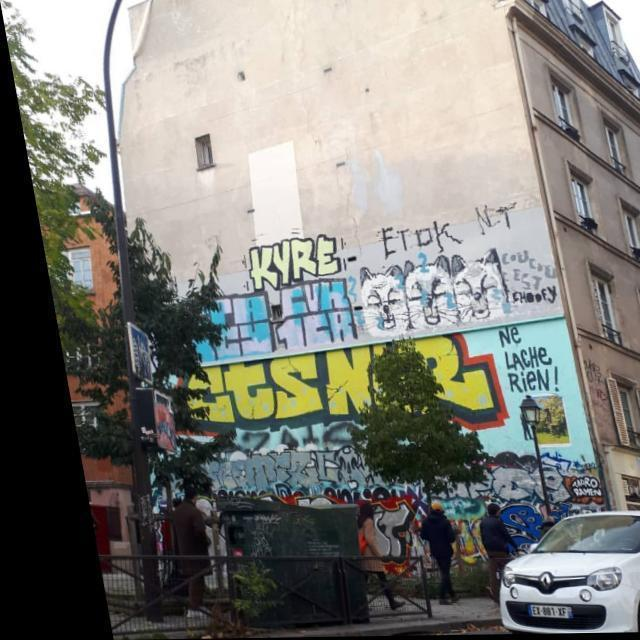nonspitting: (205, 444, 606, 572), (169, 332, 512, 434), (185, 278, 358, 362), (247, 233, 342, 288), (497, 327, 560, 394), (502, 248, 558, 305), (382, 219, 463, 257), (474, 202, 518, 236)
spitting: (361, 245, 508, 332)
